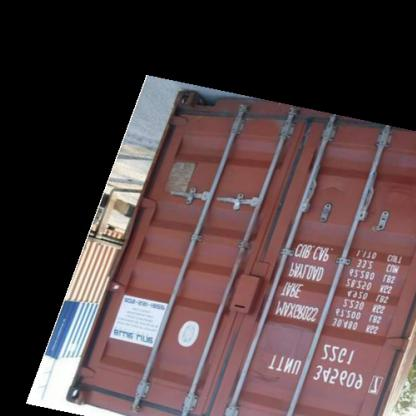Damage: (246, 362, 286, 394), (312, 179, 350, 204)
